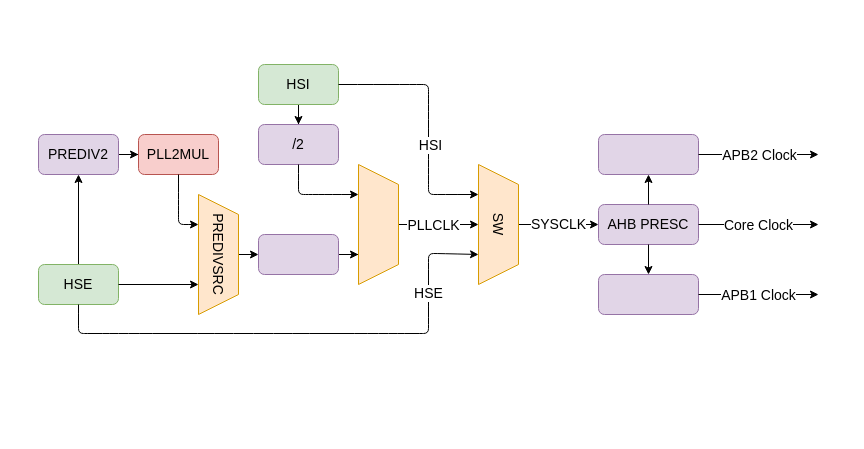
This 864x449 diagram has some shape labels left out. The centre of each missing label's shape, as x and y in pixels:
"APB1 PRESC" goes at pixel 648 294.
"APB2 PRESC" goes at pixel 648 154.
"PLLSRC" goes at pixel 378 224.
"PREDIV" goes at pixel 298 254.
